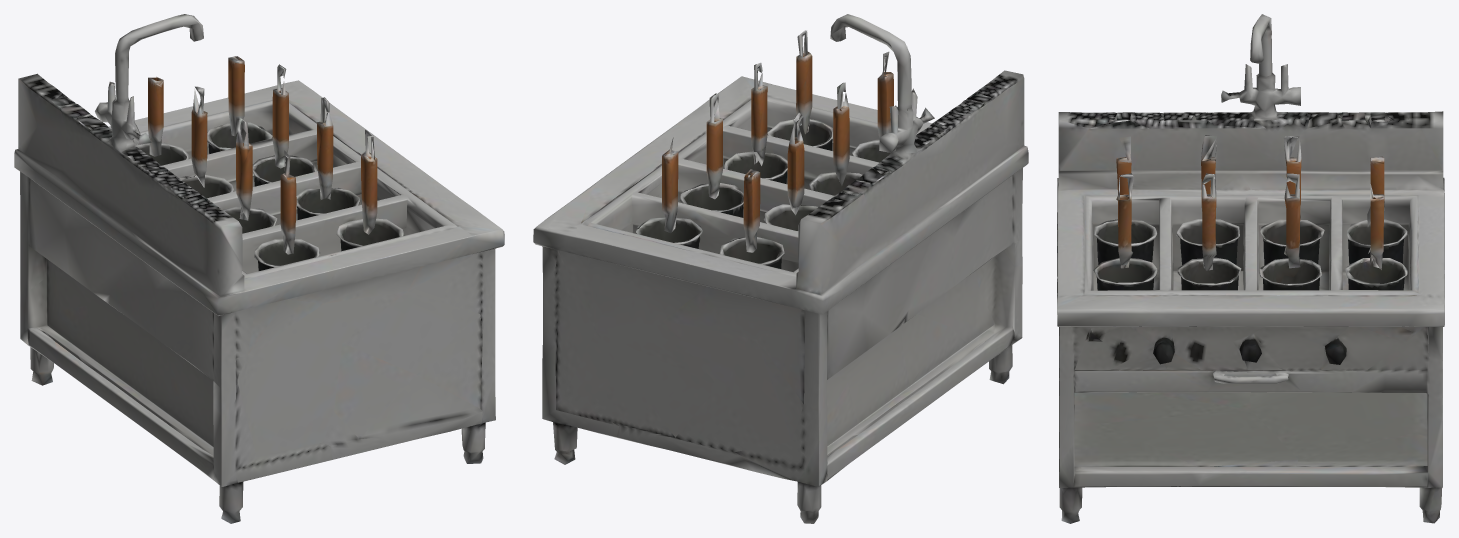
The model's file is men.glb.
3 views of the same model, side by side, from view 1: azimuth 30°, elevation 25°; view 2: azimuth 150°, elevation 25°; view 3: azimuth 270°, elevation 25° (orthographic). The views are drawn at different scales.
Visible parts, largest first — view 1: tripo_node_17d44517-8d78-45e0-bff8-b069f45e554d; view 2: tripo_node_17d44517-8d78-45e0-bff8-b069f45e554d; view 3: tripo_node_17d44517-8d78-45e0-bff8-b069f45e554d.
Part boxes in pixels (left/top/right/bottom): tripo_node_17d44517-8d78-45e0-bff8-b069f45e554d: left=14, top=14, right=504, bottom=523; tripo_node_17d44517-8d78-45e0-bff8-b069f45e554d: left=533, top=14, right=1028, bottom=523; tripo_node_17d44517-8d78-45e0-bff8-b069f45e554d: left=1057, top=14, right=1444, bottom=523.
Size of the model in its own units: 0.7336 by 0.9986 by 0.8779.
1 material, 1 textured.
